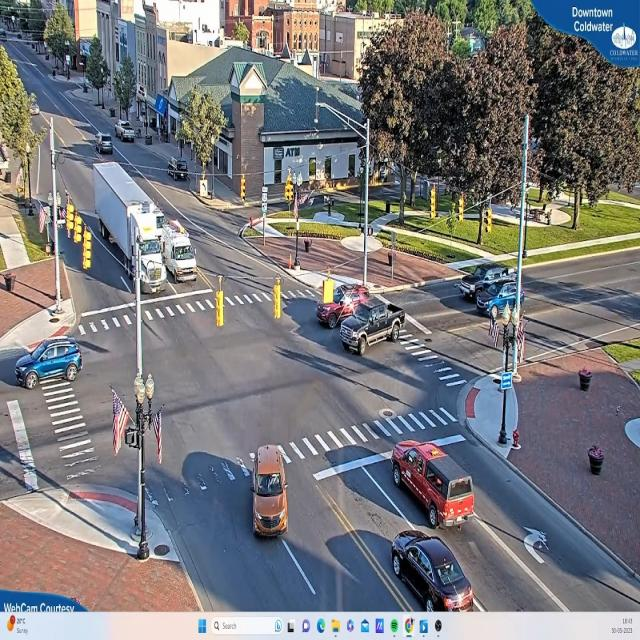car: (392, 439, 477, 530), (391, 530, 482, 612), (340, 296, 406, 355), (250, 443, 288, 538), (14, 340, 85, 390), (460, 267, 519, 307), (119, 125, 136, 143), (98, 136, 112, 154)
truck: (92, 162, 170, 292)
